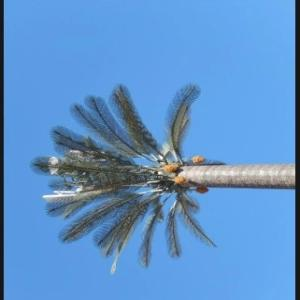palm tree: (29, 81, 294, 274)
